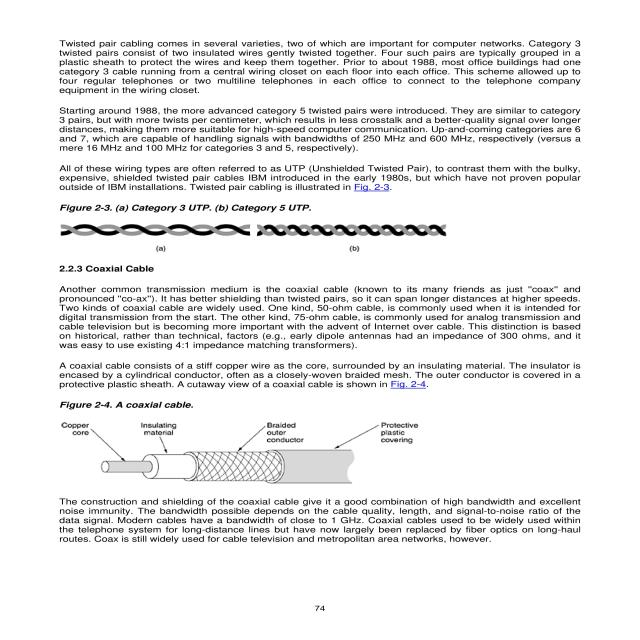diagram: (58, 394, 453, 494), (49, 201, 473, 253)
